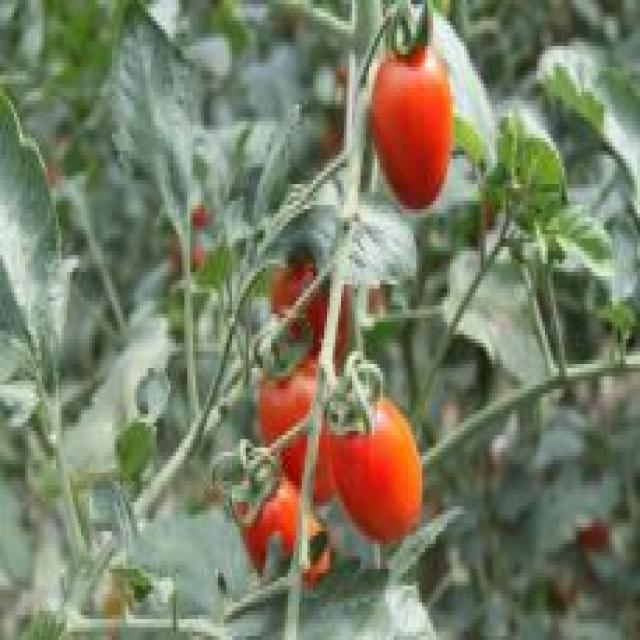level 5: (330, 391, 431, 553), (223, 468, 338, 608)
level 6: (368, 47, 457, 223), (248, 353, 352, 490), (255, 236, 364, 357)
